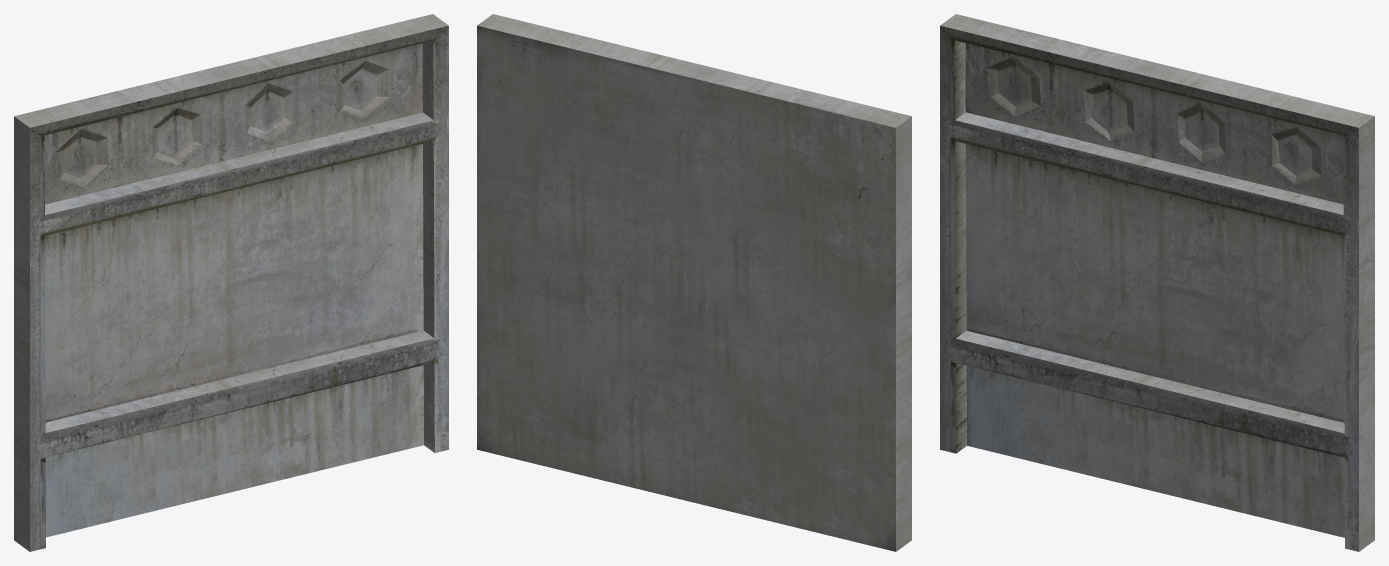
3 renders of one model, left to right at view 1: azimuth 30°, elevation 25°; view 2: azimuth 150°, elevation 25°; view 3: azimuth 330°, elevation 25°, orthographic.
Visible parts, largest first — view 1: Zabor_03; view 2: Zabor_03; view 3: Zabor_03.
Part boxes in pixels (left/top/right/bottom): Zabor_03: left=14, top=14, right=448, bottom=551; Zabor_03: left=477, top=14, right=911, bottom=551; Zabor_03: left=940, top=14, right=1374, bottom=551.
Bounding box in the file's own units: 214 × 207 × 14.07.
